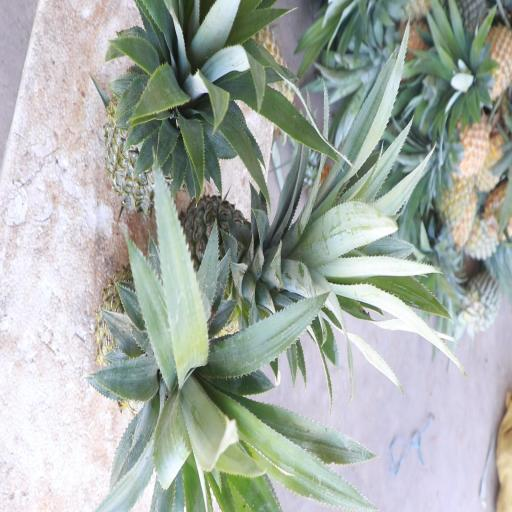Pineapple - v8 v1: (453, 25, 512, 107), (430, 108, 490, 185)
